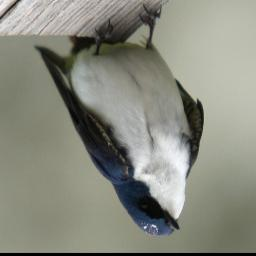Swallow: (34, 2, 206, 237)
